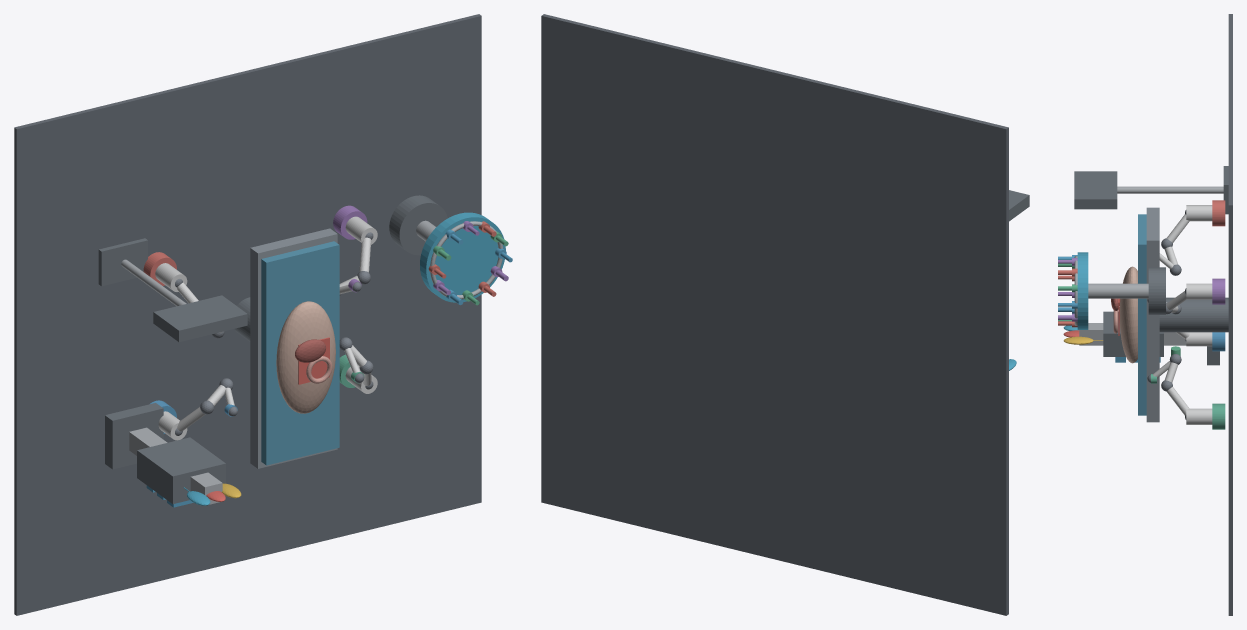
The model's file is dranmar_autonomous_rescue_or_idle.glb.
The picture shows the model from 3 angles, left to right: view 1: azimuth 30°, elevation 25°; view 2: azimuth 150°, elevation 25°; view 3: azimuth 270°, elevation 25°; orthographic projection. The views are drawn at different scales.
Visible parts, largest first — view 1: floor, mattress, carousel_rotor, patient_torso, table_base, pump_rack, monitor_body, resus_base, carousel_base, monitor_base, resus_column; view 2: floor; view 3: floor, table_base, table_column, monitor_body, mattress, patient_torso, carousel_column, carousel_rotor, pump_rack, carousel_base, monitor_pole, resus_column (+10 smaller).
Part boxes in pixels (x1,y1,x2,y2): floor: (14,14,481,615); mattress: (261,241,339,465); carousel_rotor: (420,212,505,302); patient_torso: (276,301,335,413); table_base: (250,228,337,468); pump_rack: (137,437,225,503); monitor_body: (153,295,247,342); resus_base: (105,403,163,469); carousel_base: (389,195,447,255); monitor_base: (98,238,147,286); resus_column: (129,427,222,504); floor: (541,14,1008,615); floor: (1228,14,1232,615); table_base: (1146,207,1159,422); table_column: (1159,297,1228,332); monitor_body: (1074,171,1117,209); mattress: (1138,214,1146,415); patient_torso: (1119,266,1137,363); carousel_column: (1088,283,1148,298); carousel_rotor: (1077,252,1088,329); pump_rack: (1103,311,1163,356); carousel_base: (1148,267,1165,314); monitor_pole: (1117,186,1223,193); resus_column: (1079,323,1186,345).
Bounding box in the file's own units: 4.2 × 4.2 × 1.62.
